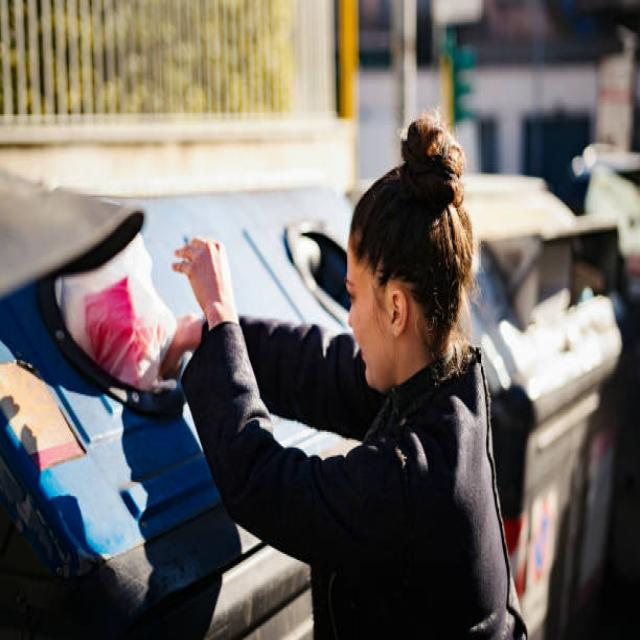trash: (75, 246, 155, 371)
